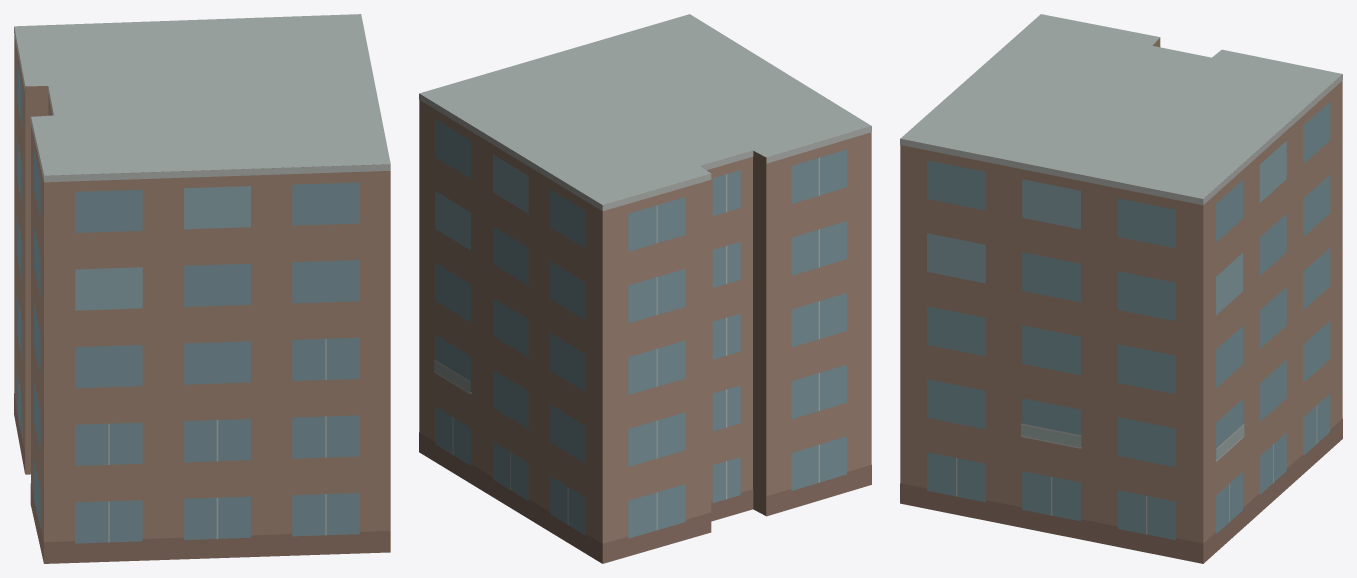
The model's file is survey-upis-32967152.glb.
3 renders of one model, left to right at view 1: azimuth 30°, elevation 25°; view 2: azimuth 150°, elevation 25°; view 3: azimuth 270°, elevation 25°, orthographic. The views are drawn at different scales.
Parts seen in each view (by area): view 1: survey-upis-32967152.tmp; view 2: survey-upis-32967152.tmp; view 3: survey-upis-32967152.tmp.
Part boxes in pixels (x1,y1,x2,y2): survey-upis-32967152.tmp: (14,14,390,563); survey-upis-32967152.tmp: (419,14,871,563); survey-upis-32967152.tmp: (900,14,1342,563).
Size of the model in its own units: 15.45 by 14.2 by 15.62.
